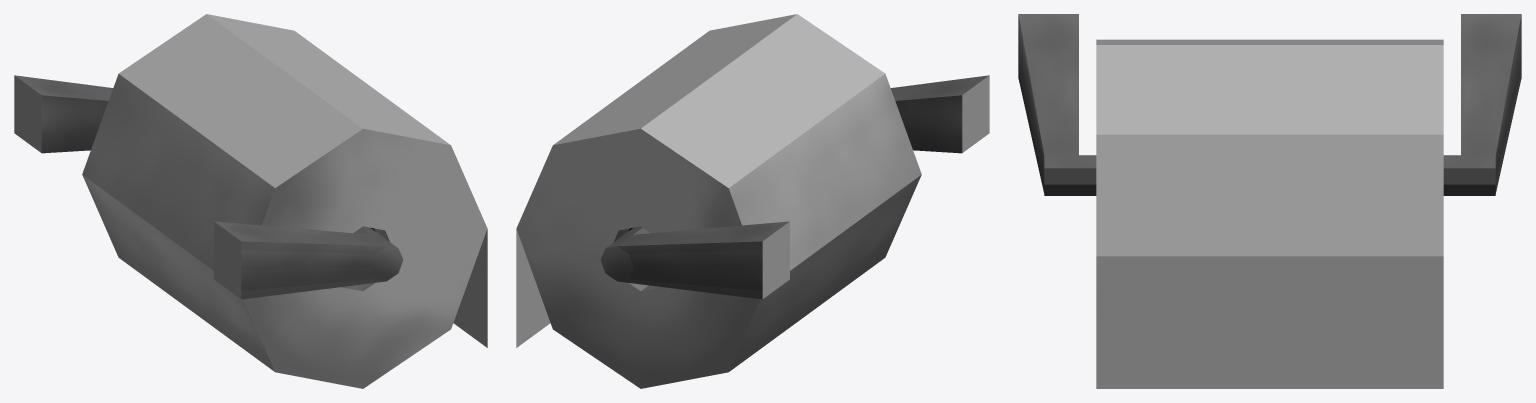
Rendered from paper_roll.obj.
The picture shows the model from 3 angles, left to right: view 1: azimuth 30°, elevation 25°; view 2: azimuth 150°, elevation 25°; view 3: azimuth 270°, elevation 25°; orthographic projection. The views are drawn at different scales.
Parts seen in each view (by area): view 1: paper_roll; view 2: paper_roll; view 3: paper_roll.
Part boxes in pixels (x1=…): paper_roll: x1=14, y1=14, x2=487, y2=388; paper_roll: x1=516, y1=14, x2=989, y2=388; paper_roll: x1=1018, y1=14, x2=1521, y2=388.
Size of the model in its own units: 0.1244 by 0.11 by 0.1739.
